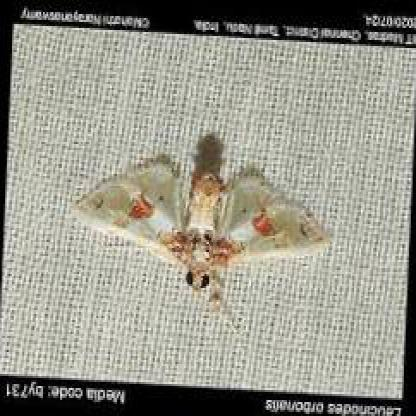leucinodes: (69, 165, 330, 292)
